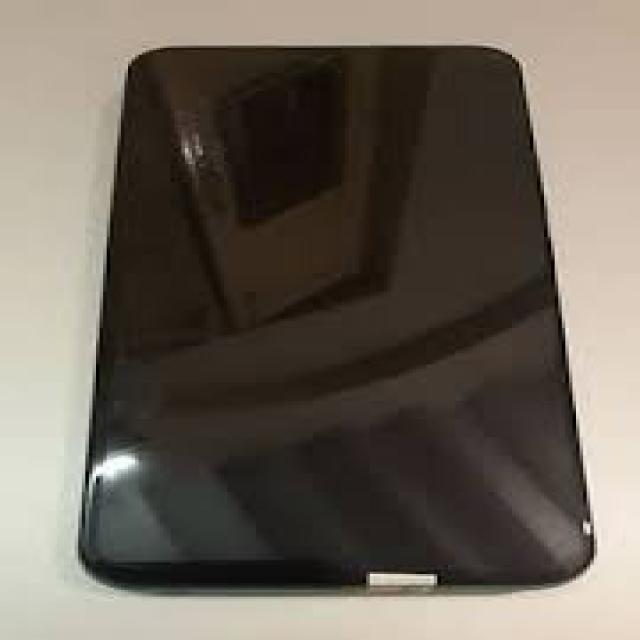mobile phone: (75, 41, 597, 594)
